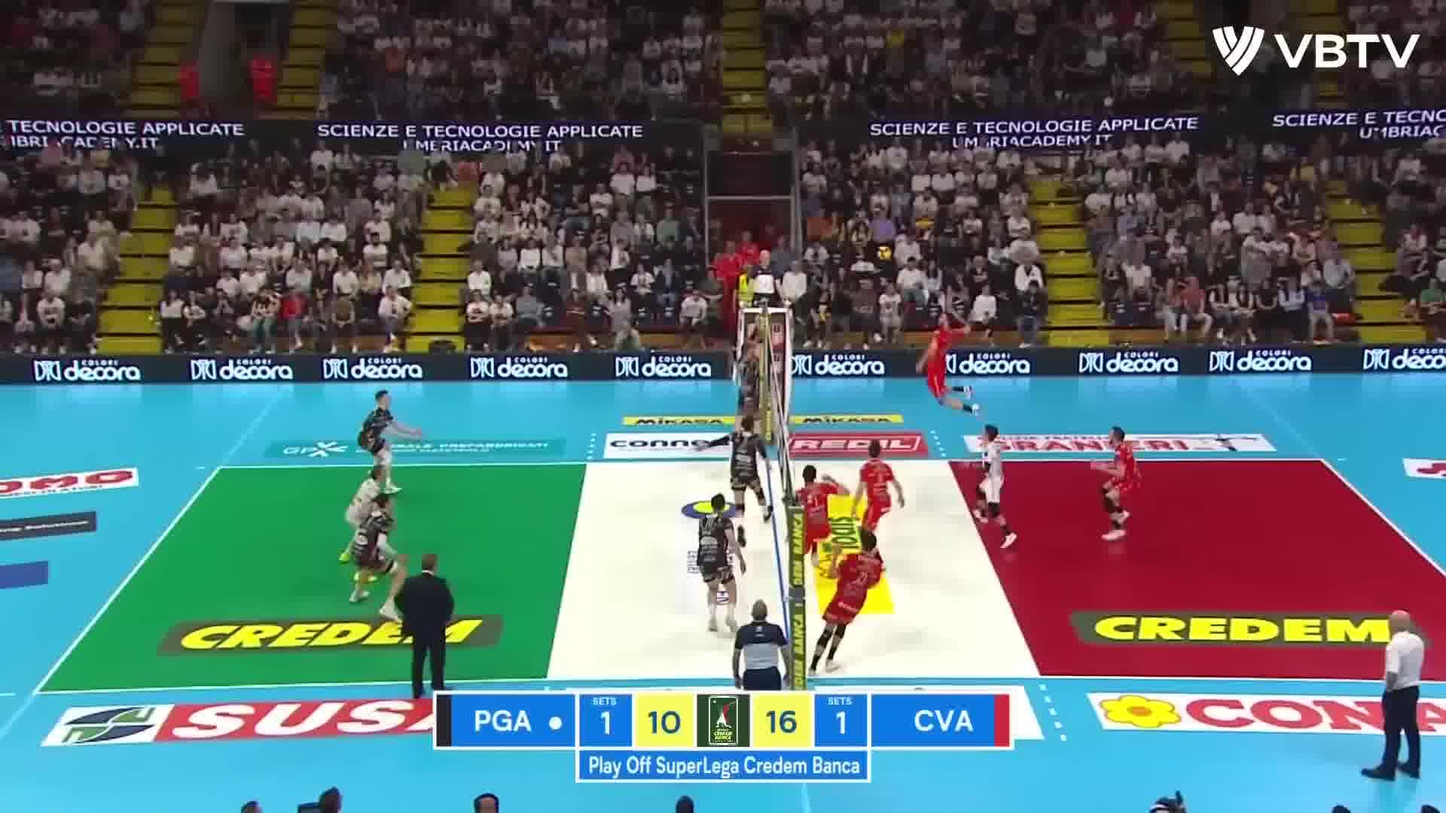balls: (871, 239, 898, 266)
